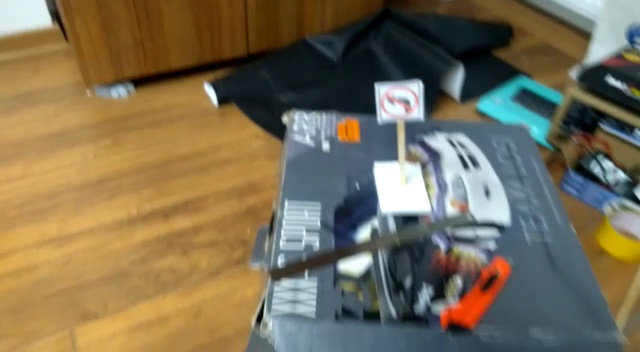sola_donulmez: (380, 81, 420, 121)
